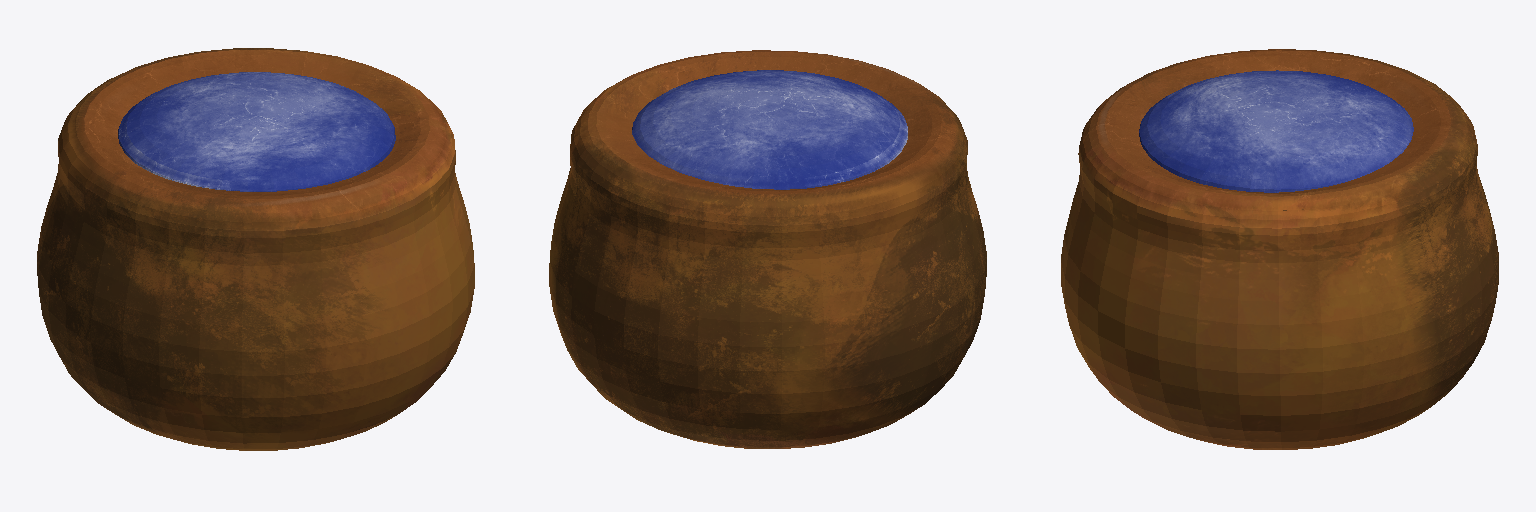
3 views of the same model, side by side, from view 1: azimuth 30°, elevation 25°; view 2: azimuth 150°, elevation 25°; view 3: azimuth 270°, elevation 25° (orthographic).
Parts seen in each view (by area): view 1: Jar_1b_12.001_Market_3.001, Sphere; view 2: Jar_1b_12.001_Market_3.001, Sphere; view 3: Jar_1b_12.001_Market_3.001, Sphere.
Part boxes in pixels (bbox=[...]): Jar_1b_12.001_Market_3.001: bbox=[37, 48, 474, 450]; Sphere: bbox=[118, 72, 395, 191]; Jar_1b_12.001_Market_3.001: bbox=[549, 50, 986, 448]; Sphere: bbox=[632, 70, 907, 189]; Jar_1b_12.001_Market_3.001: bbox=[1061, 49, 1498, 449]; Sphere: bbox=[1139, 70, 1413, 192].
Bounding box in the file's own units: 19.08 × 14.32 × 19.1.
Materials: 1 (1 with a texture image).